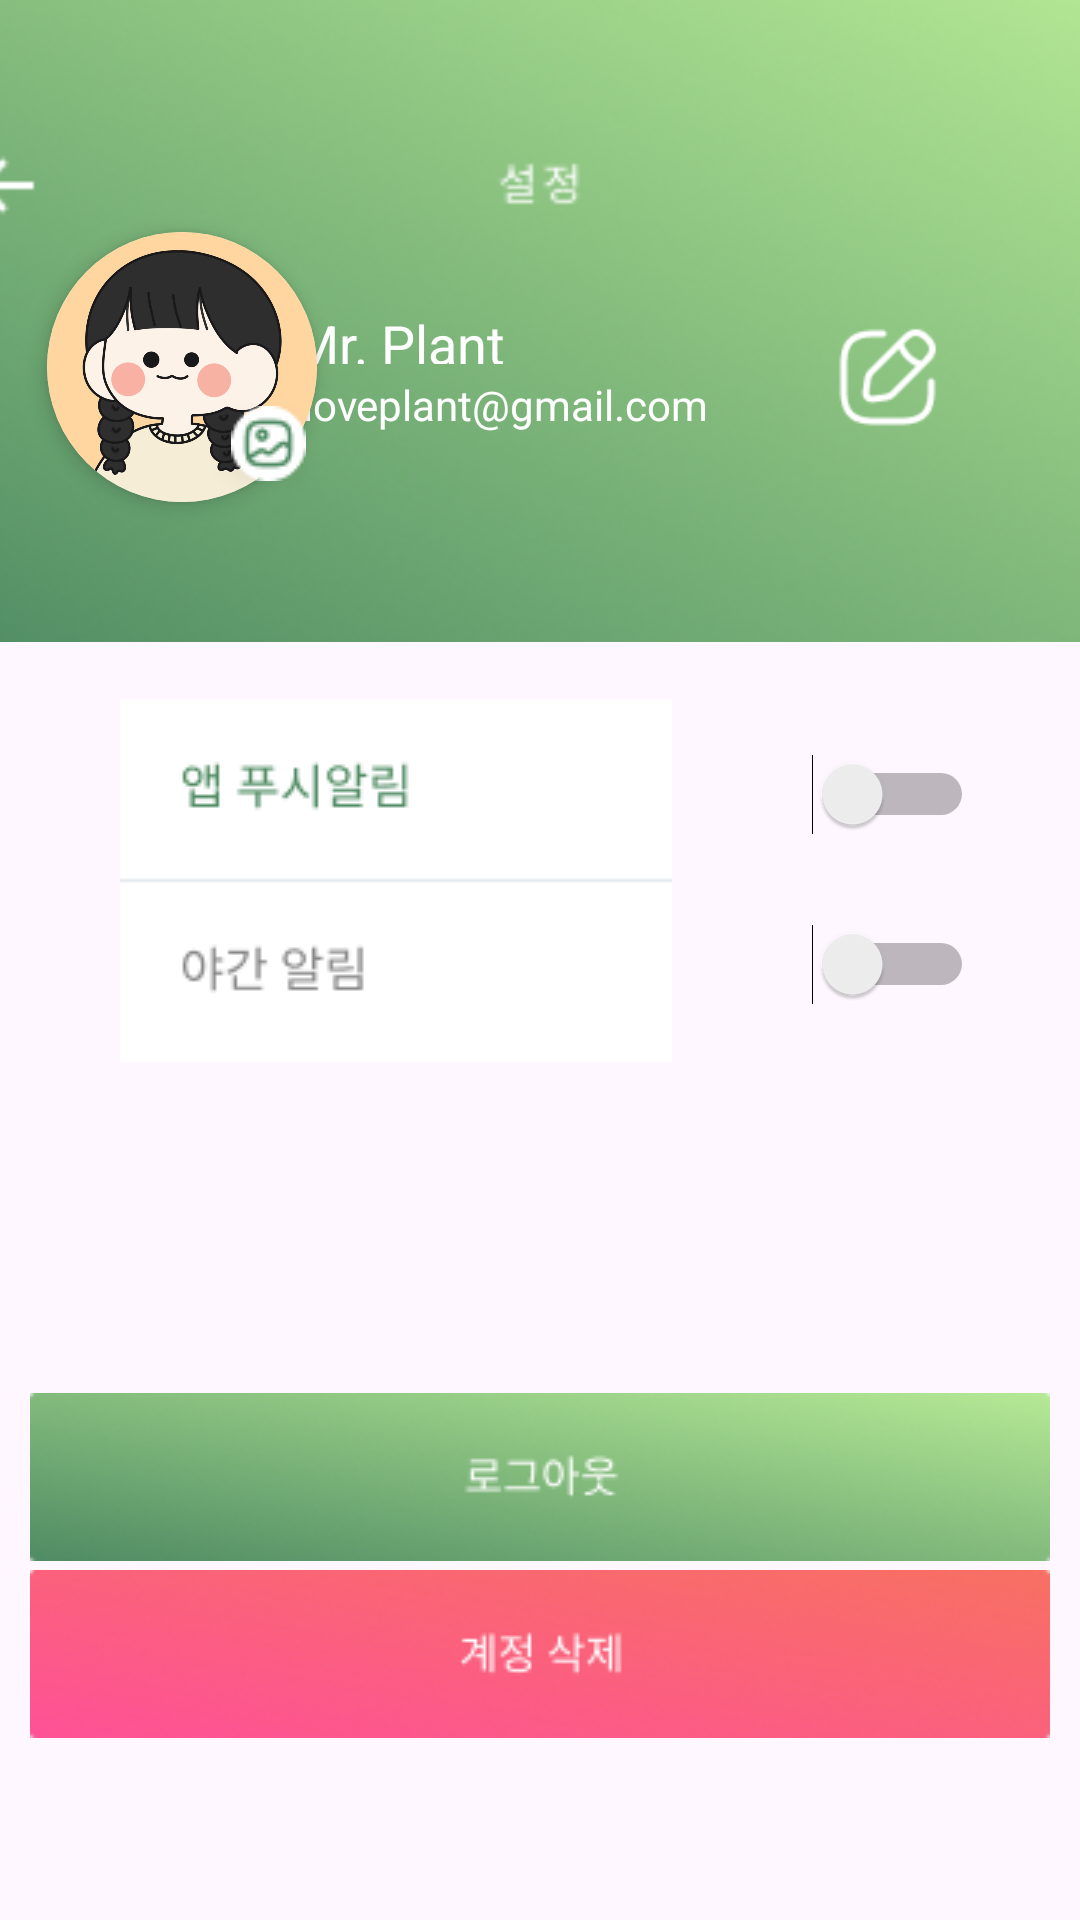

Icons on this 1080 × 1920 Android screen, each with the point to tap as (x,y):
edit: (887,377)
